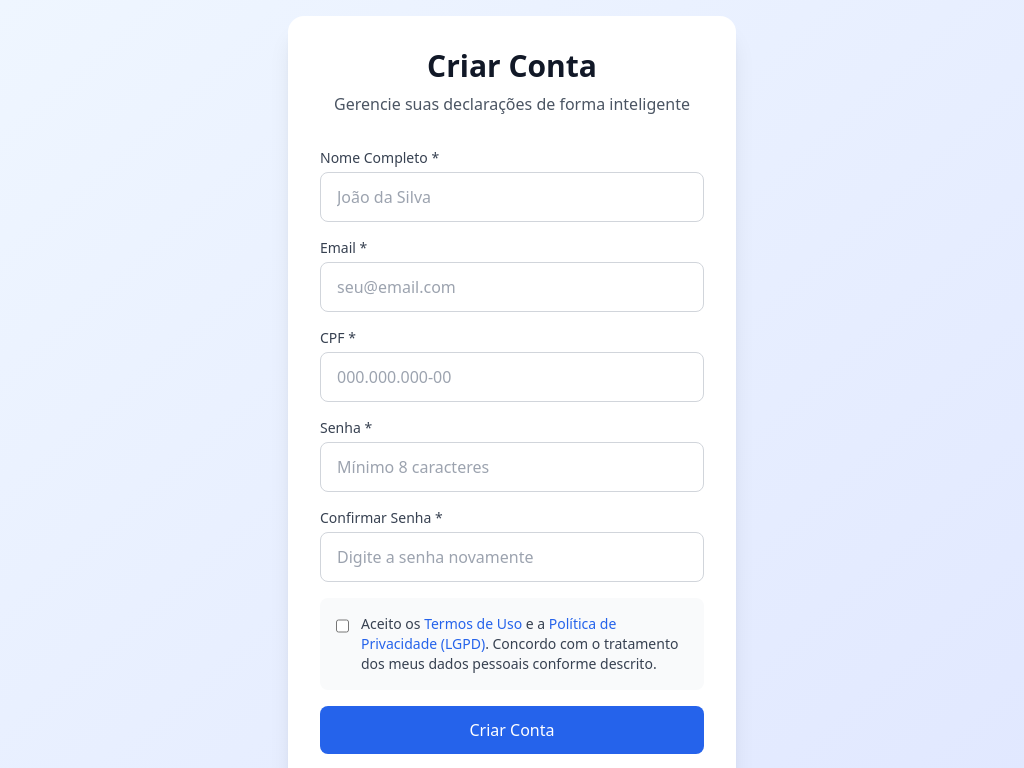
Test: RegisterPage › should validate single name
This screenshot has width=1024, height=768.
Type "Joao" into the field labelled "Nome Completo *" at (512, 197), box [320,172,704,222]
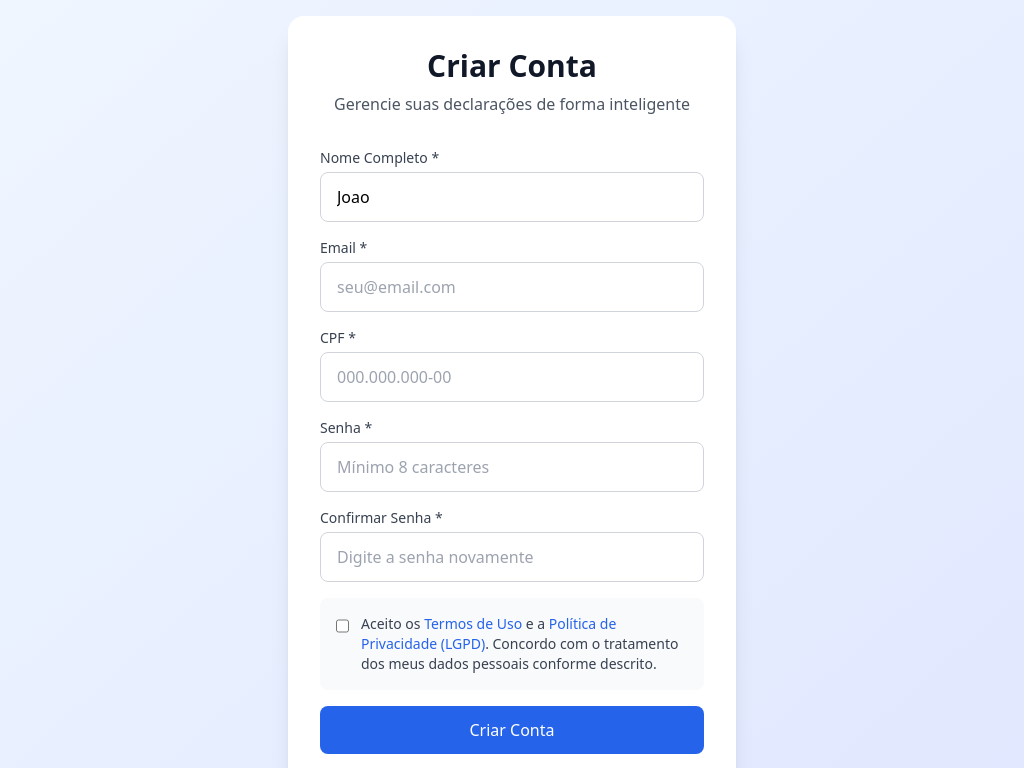
Submit the form named "Criar Conta", box [320,148,704,754]
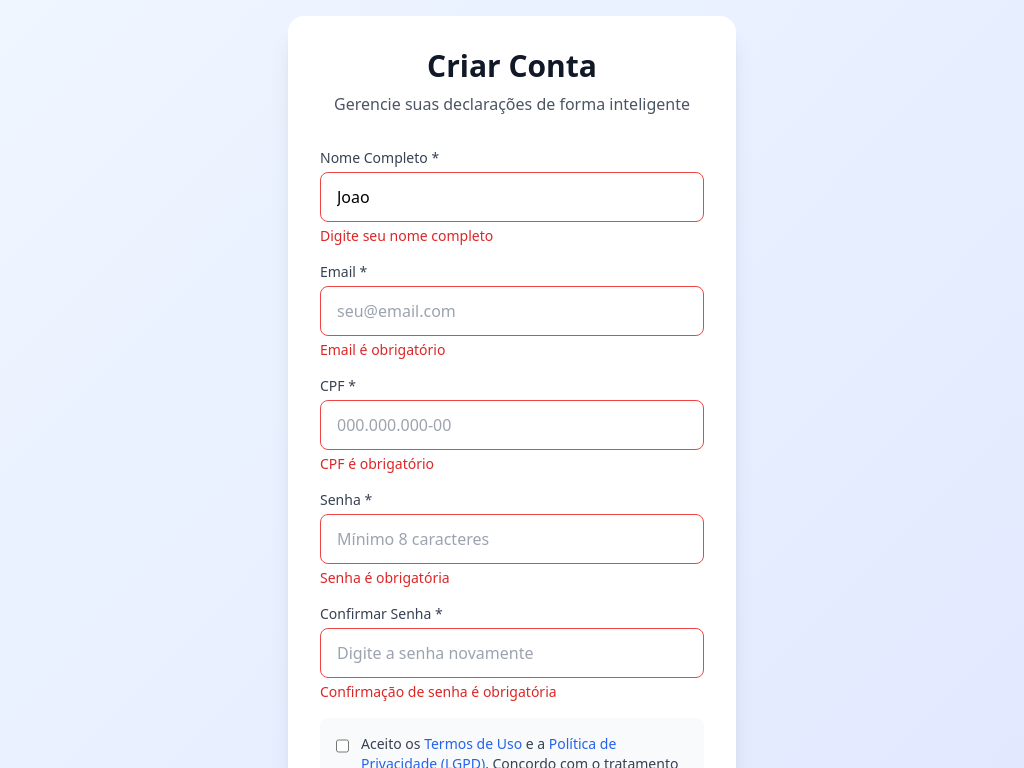
Check: the text "Digite seu nome completo" is shown, box [320,226,493,245]
